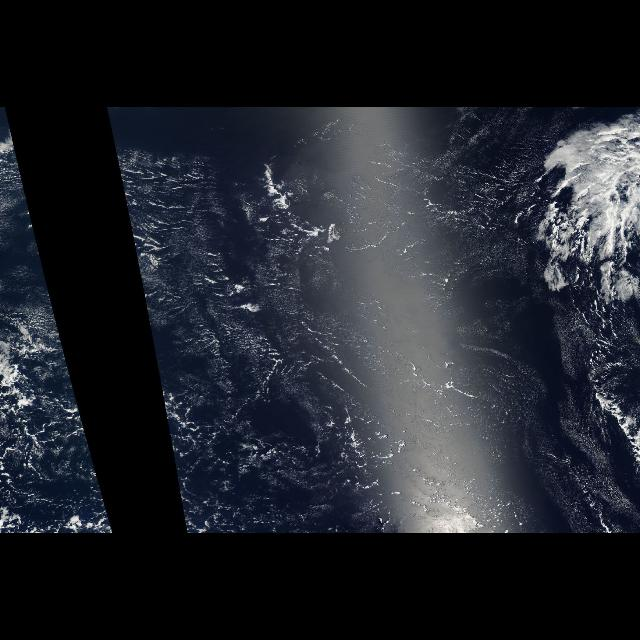Gravel: (157, 366, 289, 532), (2, 366, 114, 532), (332, 413, 406, 499)
Sugar: (453, 354, 625, 534), (130, 150, 258, 370)
